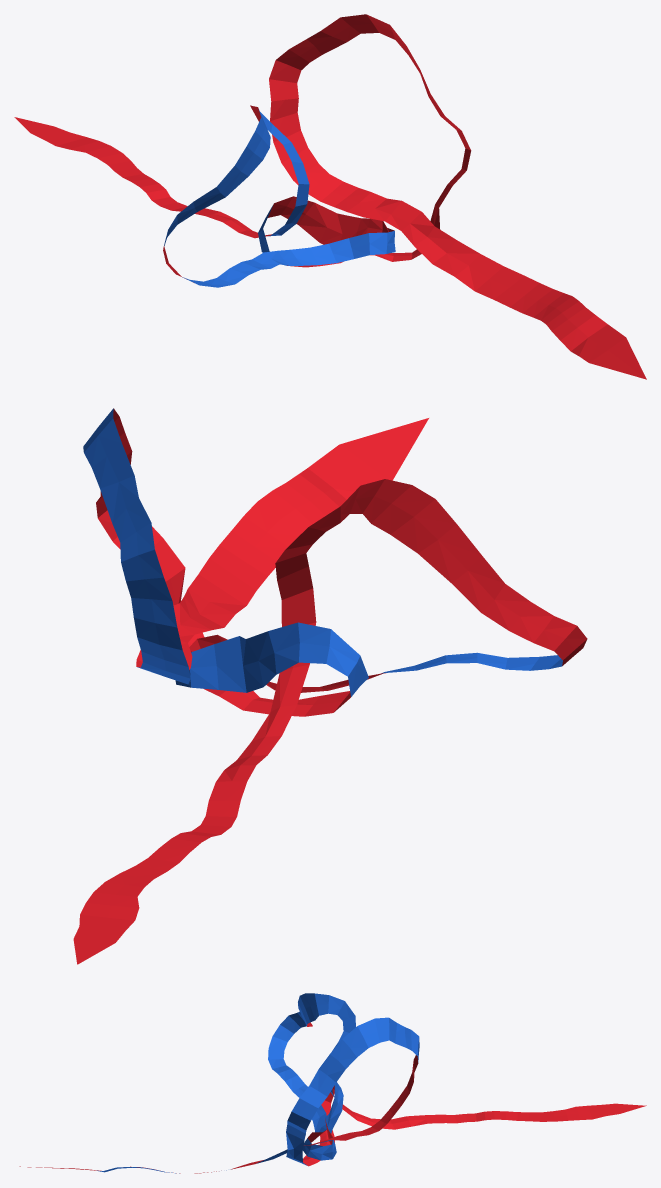
The picture shows the model from 3 angles, top to bottom: view 1: azimuth 30°, elevation 25°; view 2: azimuth 150°, elevation 25°; view 3: azimuth 270°, elevation 25°; orthographic projection. The views are drawn at different scales.
Visible parts, largest first — view 1: 1297_back; view 2: 1297_back; view 3: 1297_back.
Boxes of the visible parts, x1,y1,x2,y2 form: 1297_back: (14,14,646,379); 1297_back: (73,408,587,964); 1297_back: (19,993,646,1173).
Size of the model in its own units: 0.7866 by 0.4903 by 1.88.
